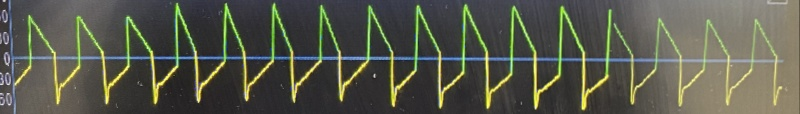peepi: (14, 0, 786, 113)
